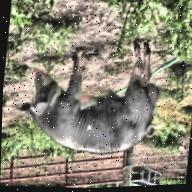boar: (12, 30, 172, 163)
